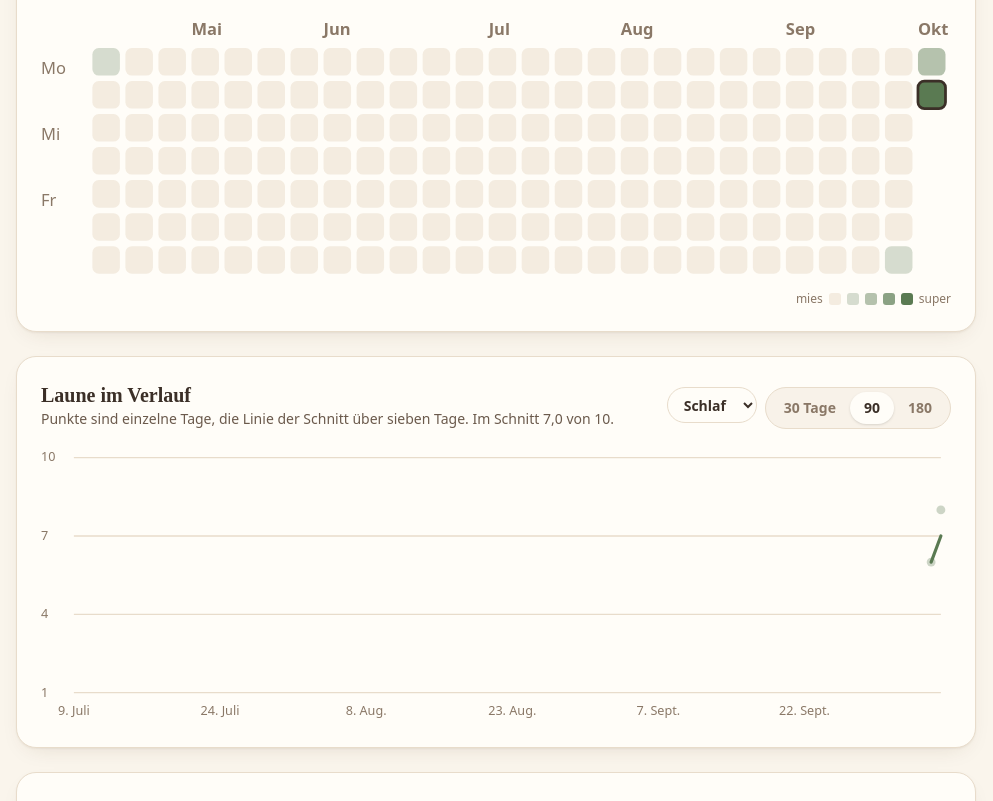
the value is named as the person named it › draws the chart of the value picked, with its own mean
(page scrolled)
Check: the element named "147109. Juli24. Juli8. Aug.23. Aug.7. Sept.22. Sept." shows "Im Schnitt 7,0 von 10.", box x1=41 y1=409 x2=614 y2=428
Select "Schlaf" in the dropdown named "Wert wählen" at x=712, y=405, box x1=667 y1=387 x2=757 y2=423
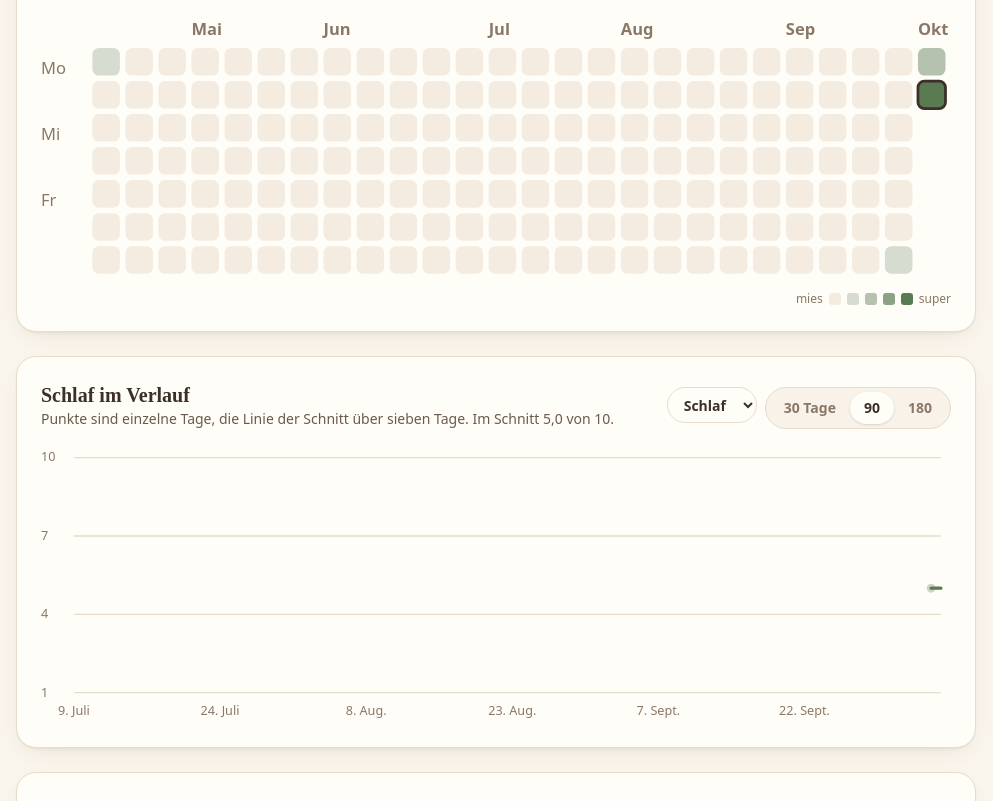
Check: the element named "147109. Juli24. Juli8. Aug.23. Aug.7. Sept.22. Sept." is shown, box x1=16 y1=356 x2=976 y2=748
Click the radio button labelled "180".
click(920, 408)  # box x1=894 y1=392 x2=946 y2=424
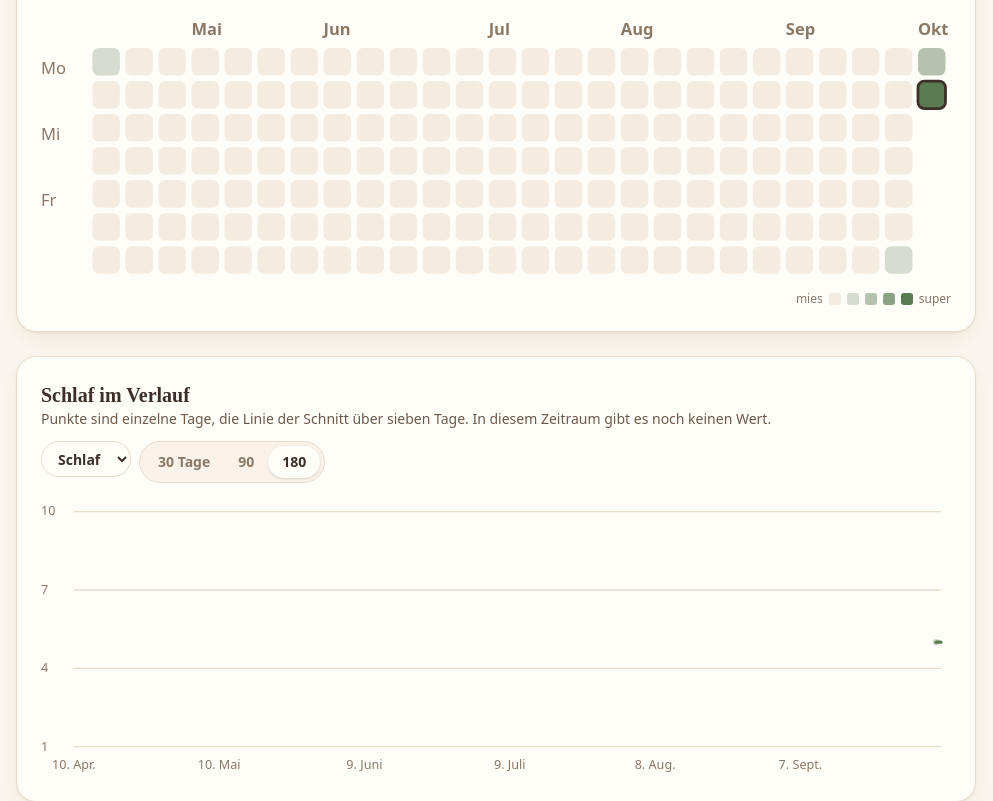
Check: the element that starts with "Schlaf im Verlauf" shows "In diesem Zeitraum gibt es noch keinen Wert.", box x1=41 y1=409 x2=771 y2=428
